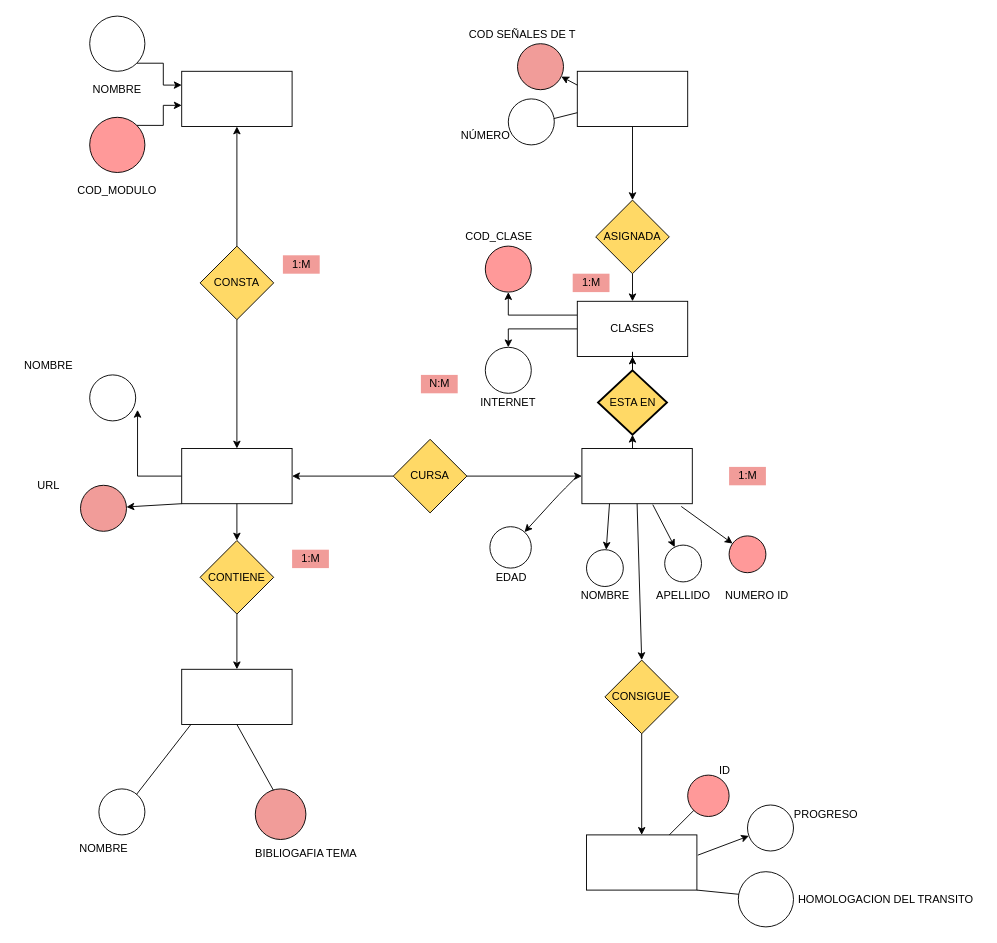
Some shapes in this 997 by 943 pixel diagram are drawn without their labels. The shapes that lost their labels are listed below. From the top down, each one's centre as x and y in pixels, then its label:
At pixel 236 98: "MODULOS".
At pixel 632 98: "SEÑALES DE TRANSITO".
At pixel 236 476: "VODEOS EDUCATIVOS VIALES".
At pixel 636 476: "ESTUDIANTES".
At pixel 236 696: "TEMAS".
At pixel 641 862: "CERTIFICACION".
